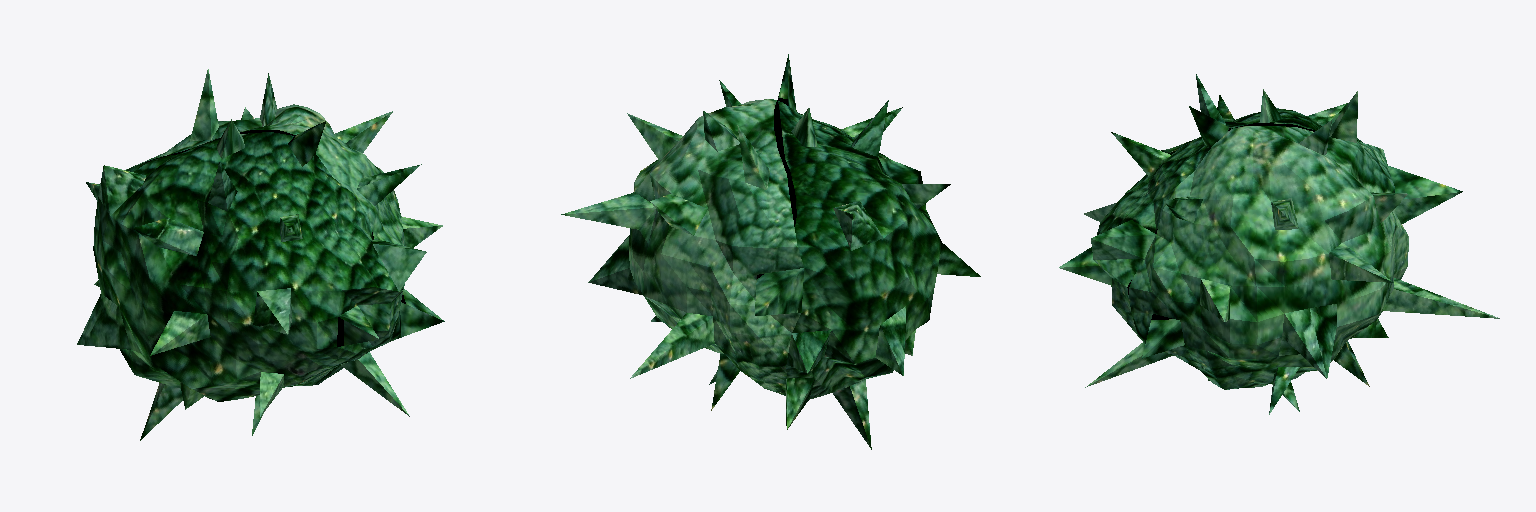
The picture shows the model from 3 angles: view 1: azimuth 30°, elevation 25°; view 2: azimuth 150°, elevation 25°; view 3: azimuth 270°, elevation 25°; orthographic projection.
Parts seen in each view (by area): view 1: Sphere; view 2: Sphere; view 3: Sphere.
Part boxes in pixels (left/top/right/bottom): Sphere: left=77, top=69, right=444, bottom=440; Sphere: left=561, top=54, right=980, bottom=449; Sphere: left=1059, top=74, right=1499, bottom=414.
Bounding box in the file's own units: 2.92 × 2.83 × 3.5.
Materials: 1 (1 with a texture image).